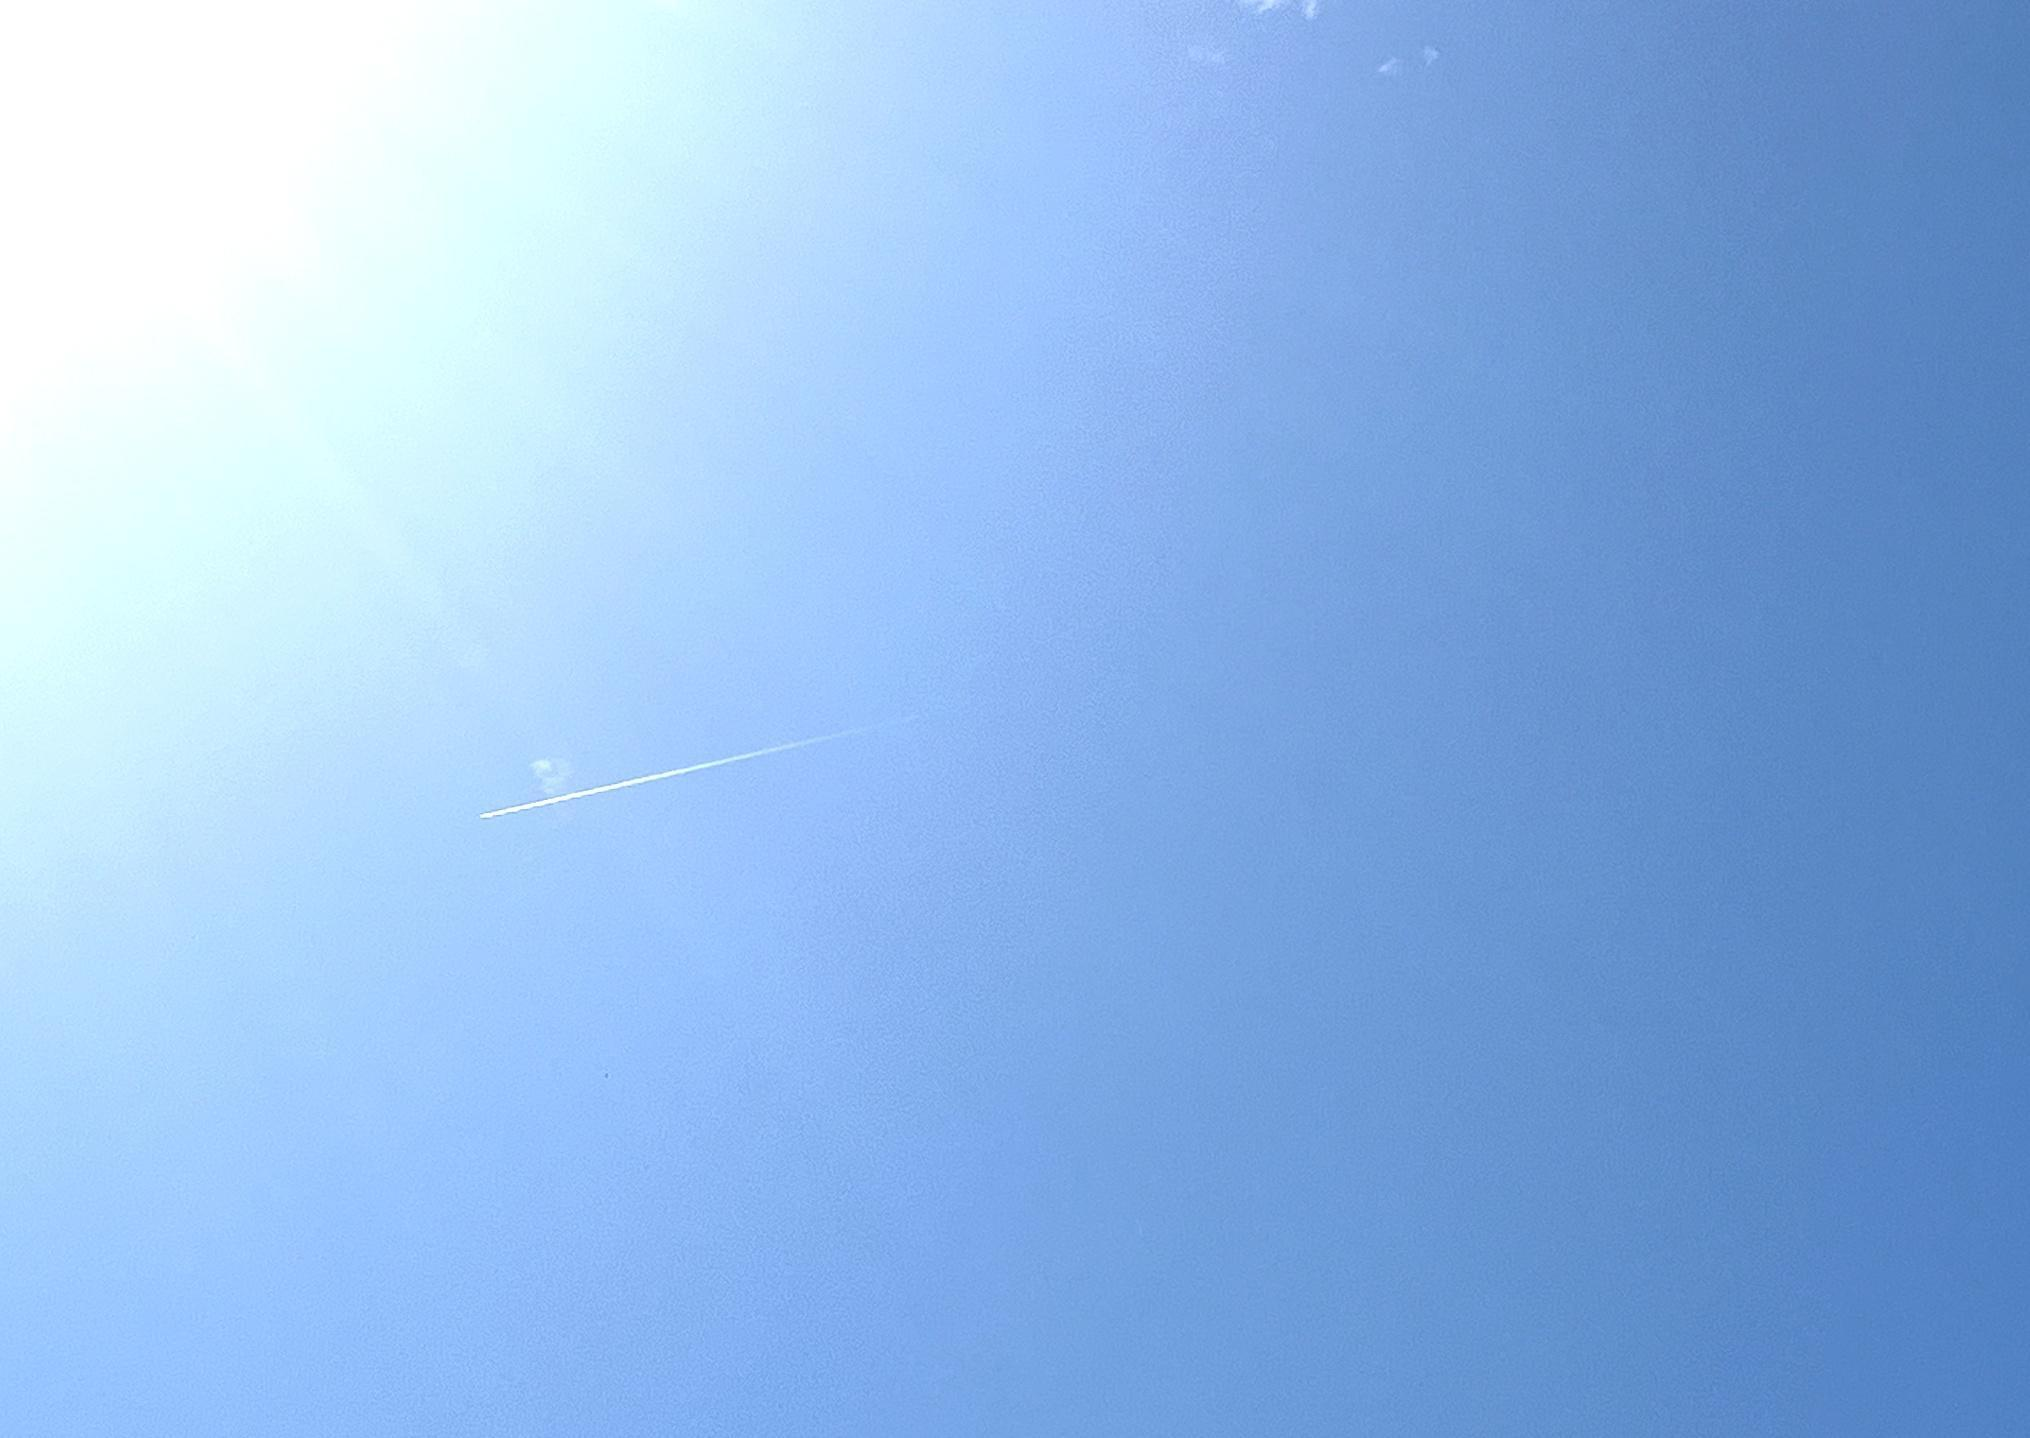Plane: (470, 721, 848, 836)
